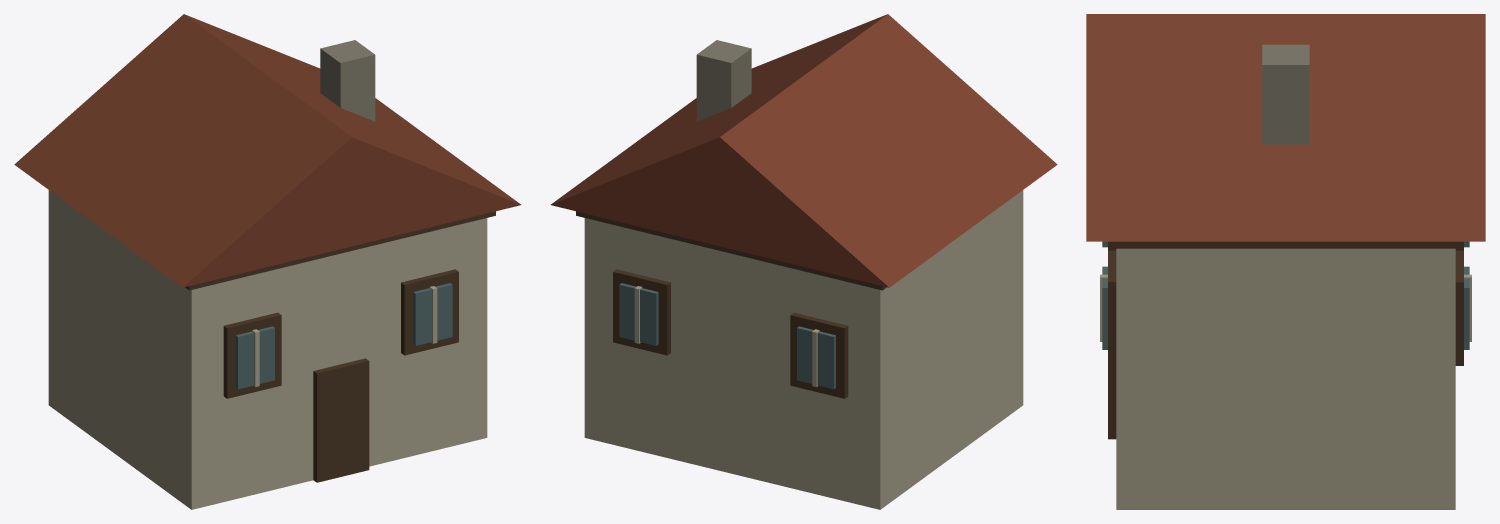
3 renders of one model, left to right at view 1: azimuth 30°, elevation 25°; view 2: azimuth 150°, elevation 25°; view 3: azimuth 270°, elevation 25°, orthographic. The views are drawn at different scales.
Visible parts, largest first — view 1: alpine-body; view 2: alpine-body; view 3: alpine-body.
Boxes of the visible parts, x1=… form: alpine-body: x1=14, y1=14, x2=521, y2=509; alpine-body: x1=550, y1=14, x2=1057, y2=509; alpine-body: x1=1086, y1=14, x2=1485, y2=509.
Size of the model in its own units: 7.8 by 7.7 by 6.7.
